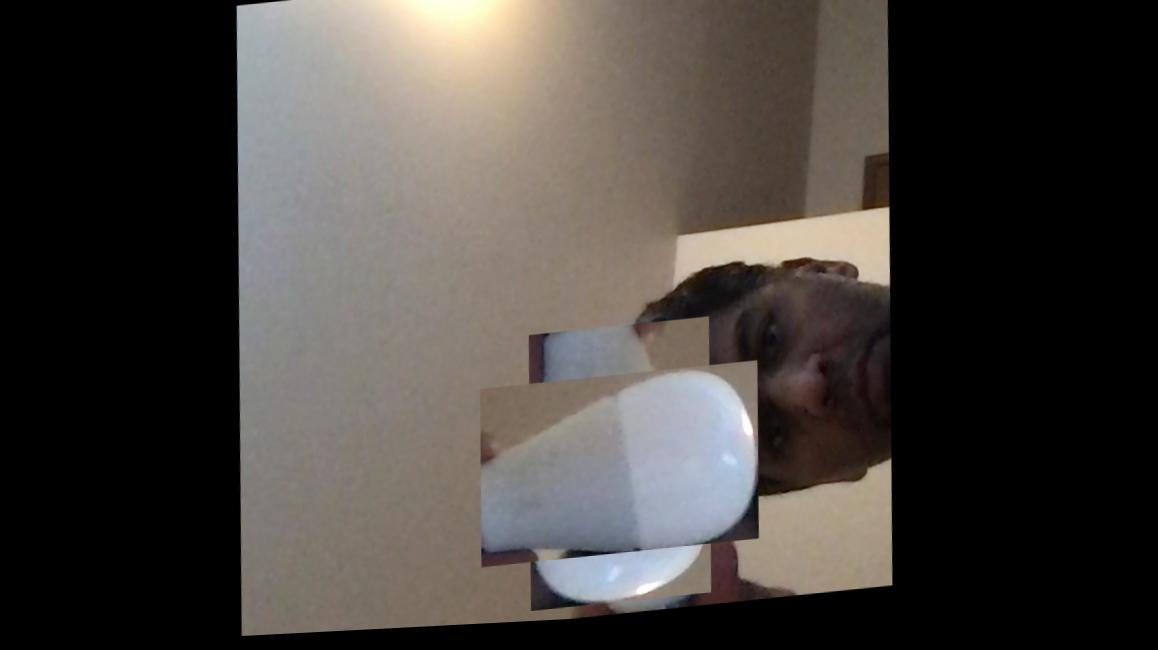Fan: (500, 344, 749, 595)
